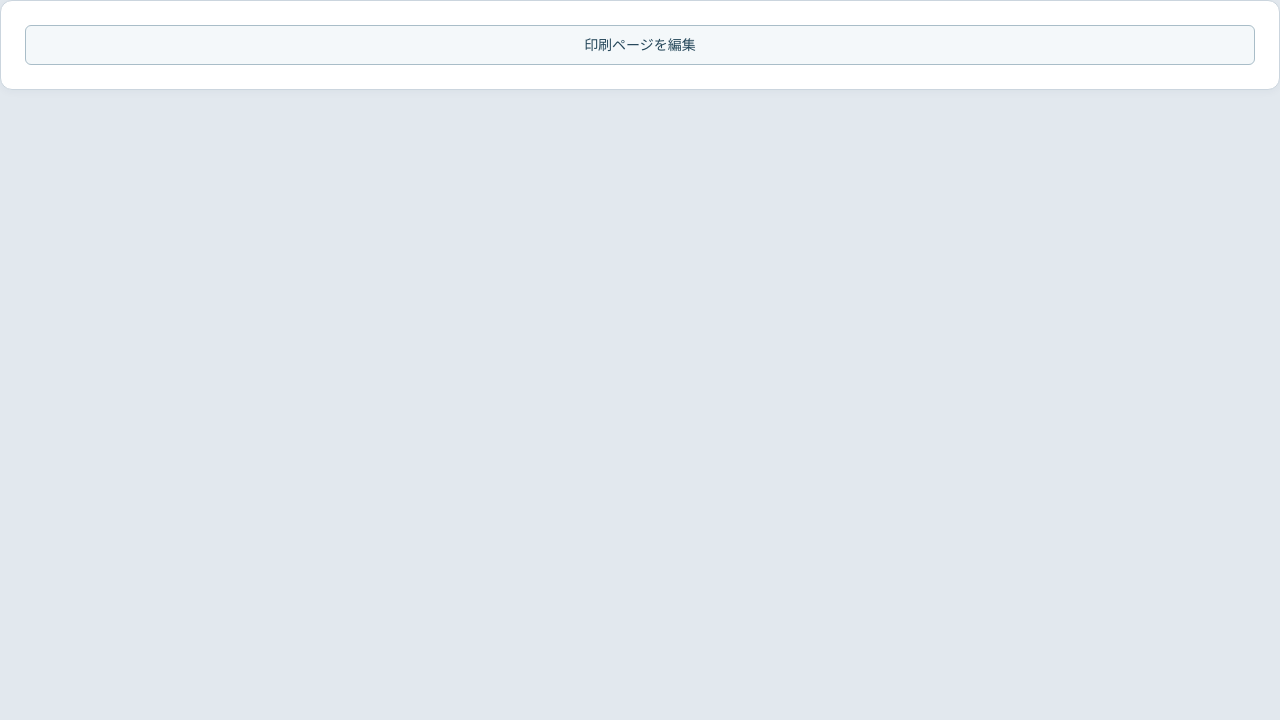
Scenario: 印刷ページ編集 › reports preparation busy to prevent concurrent activation while allowing preview zoom
Later steps or results of the test are not shown.
Click the button "印刷ページを編集".
click(640, 45)  # box [25,25,1255,65]
(page scrolled)
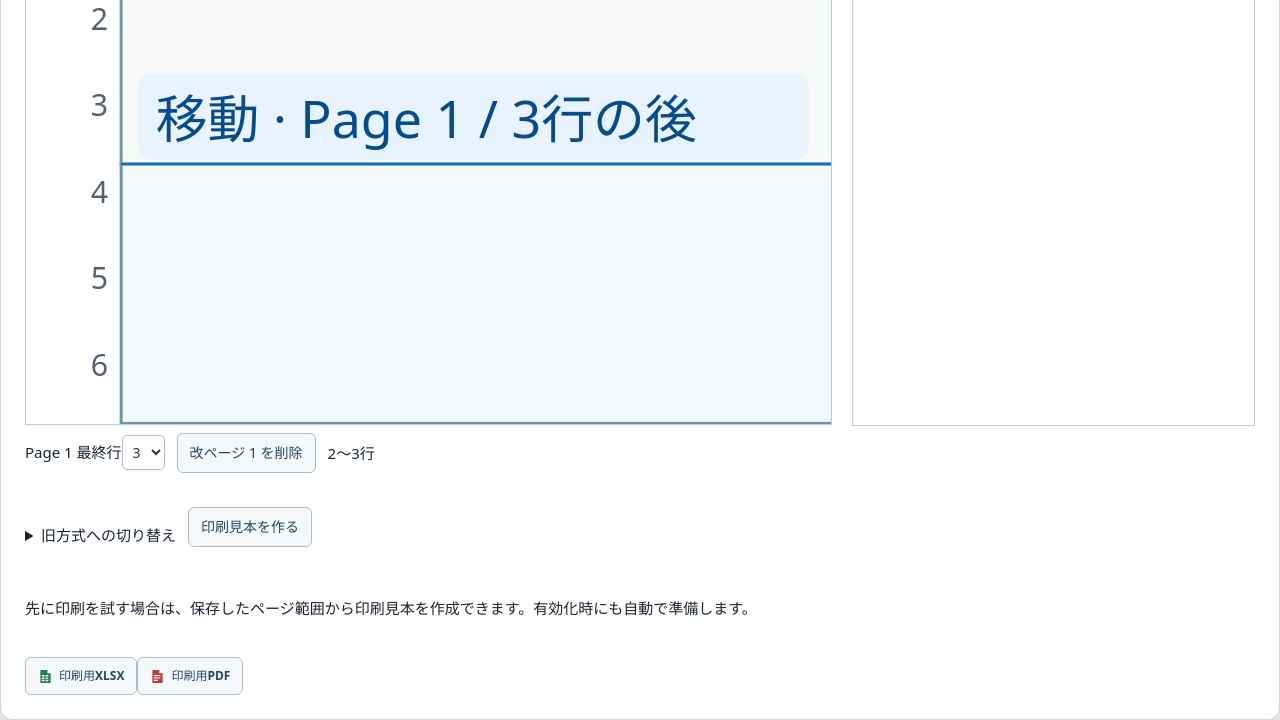
Click the button "印刷見本を作る".
click(250, 527)  # box [188,507,312,547]
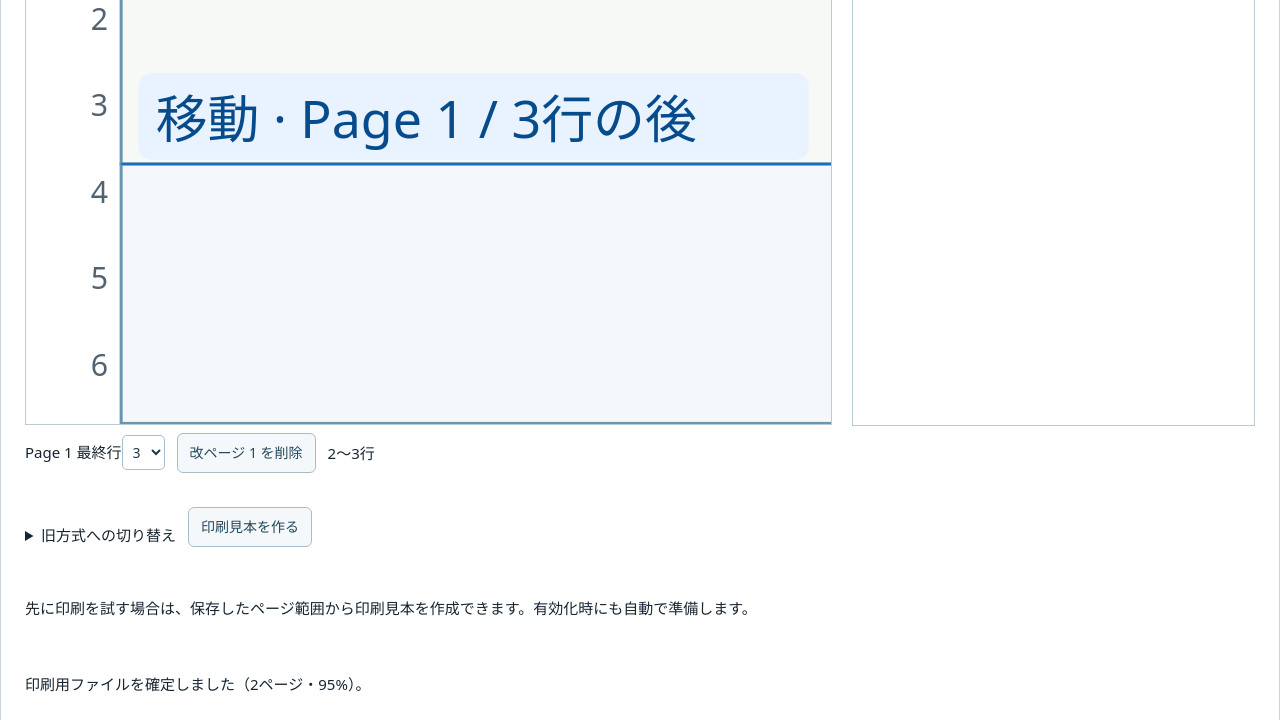
Now the text "印刷用ファイルを確定しました（2ページ・95%）。" is shown, box [25,674,370,694]
